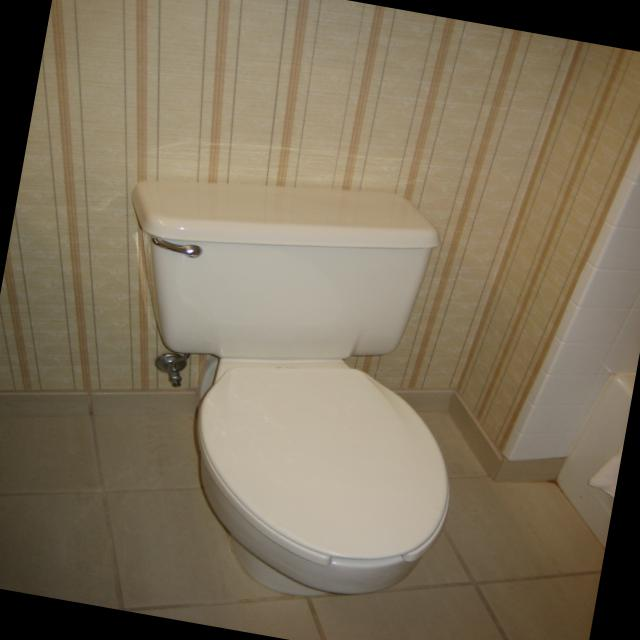toilet bowl: (133, 181, 451, 597)
